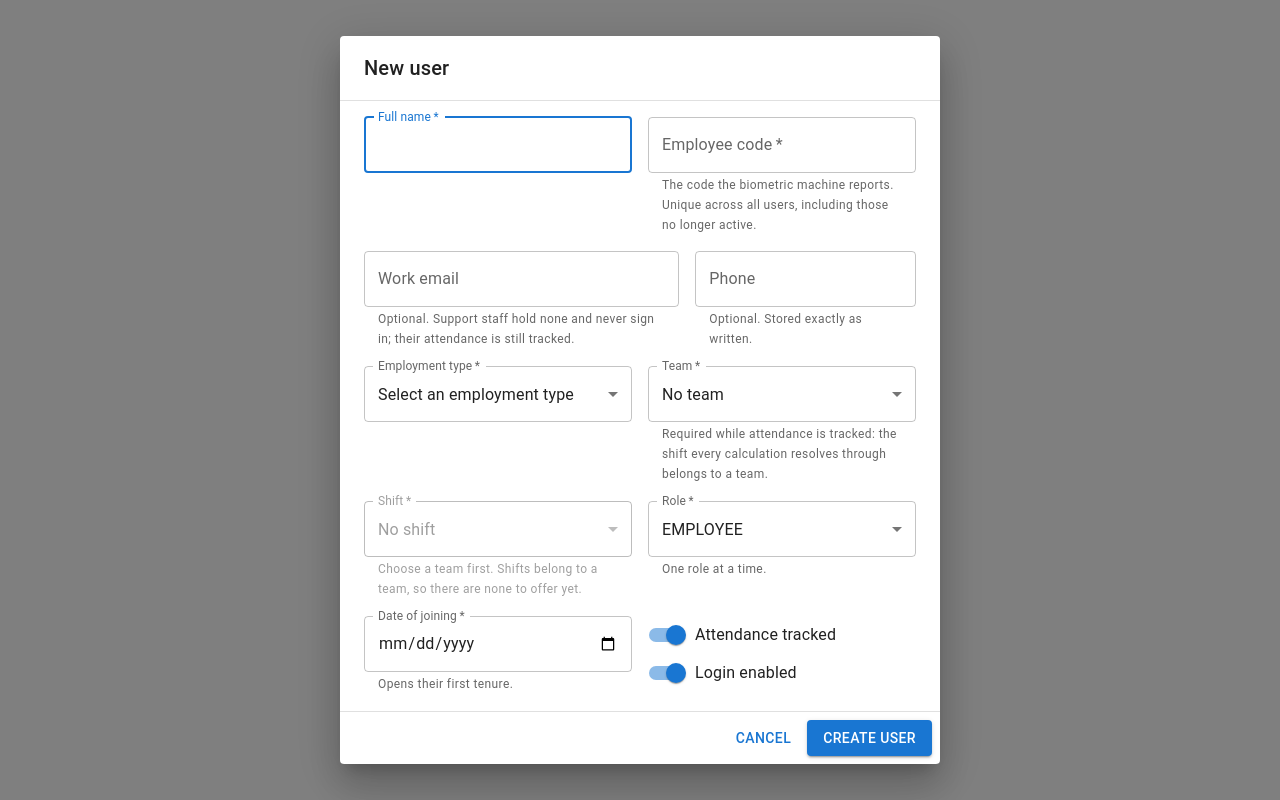
UserFormDialog › fills the shift list from the chosen team alone
Click the dropdown labelled "No team" at (693,394), box [662, 385, 724, 404]
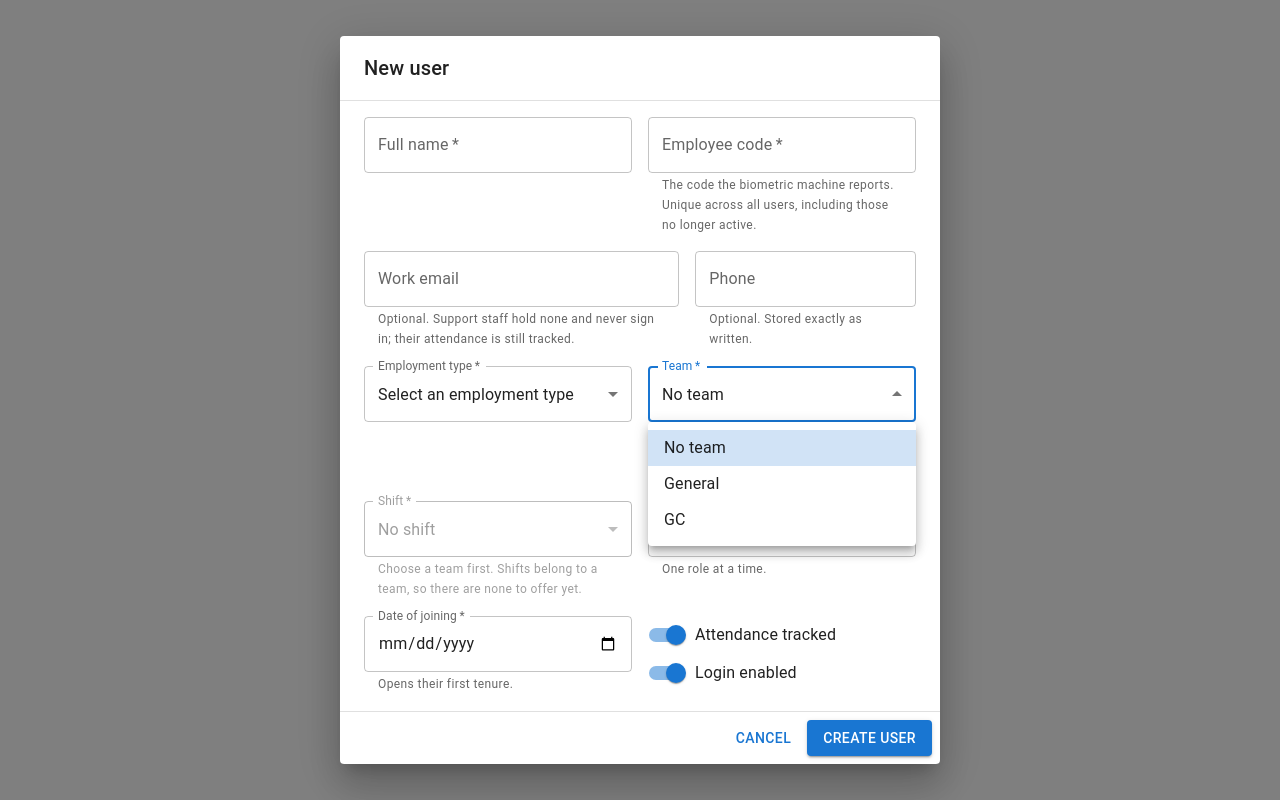
Click the option "GC" at (675,520), box [664, 510, 686, 529]
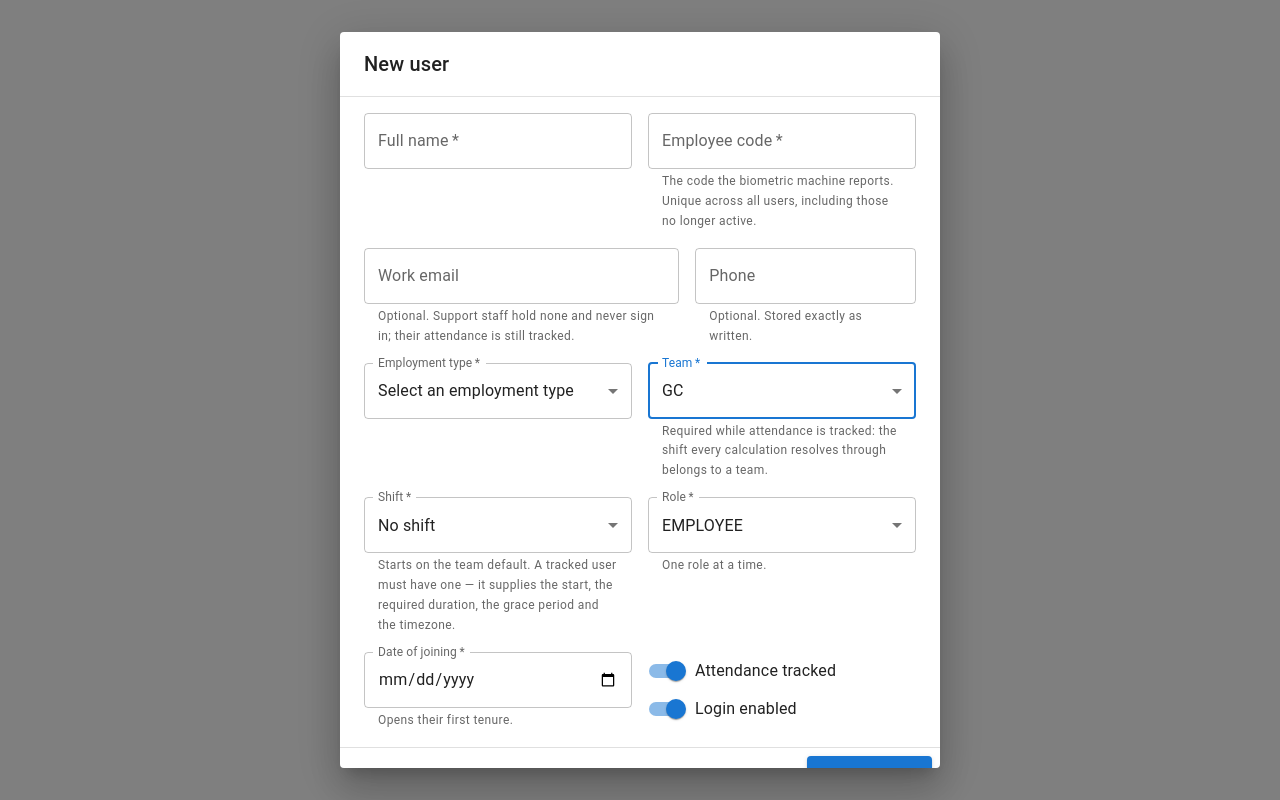
Click the dropdown labelled "No shift" at (407,525), box [378, 516, 436, 535]
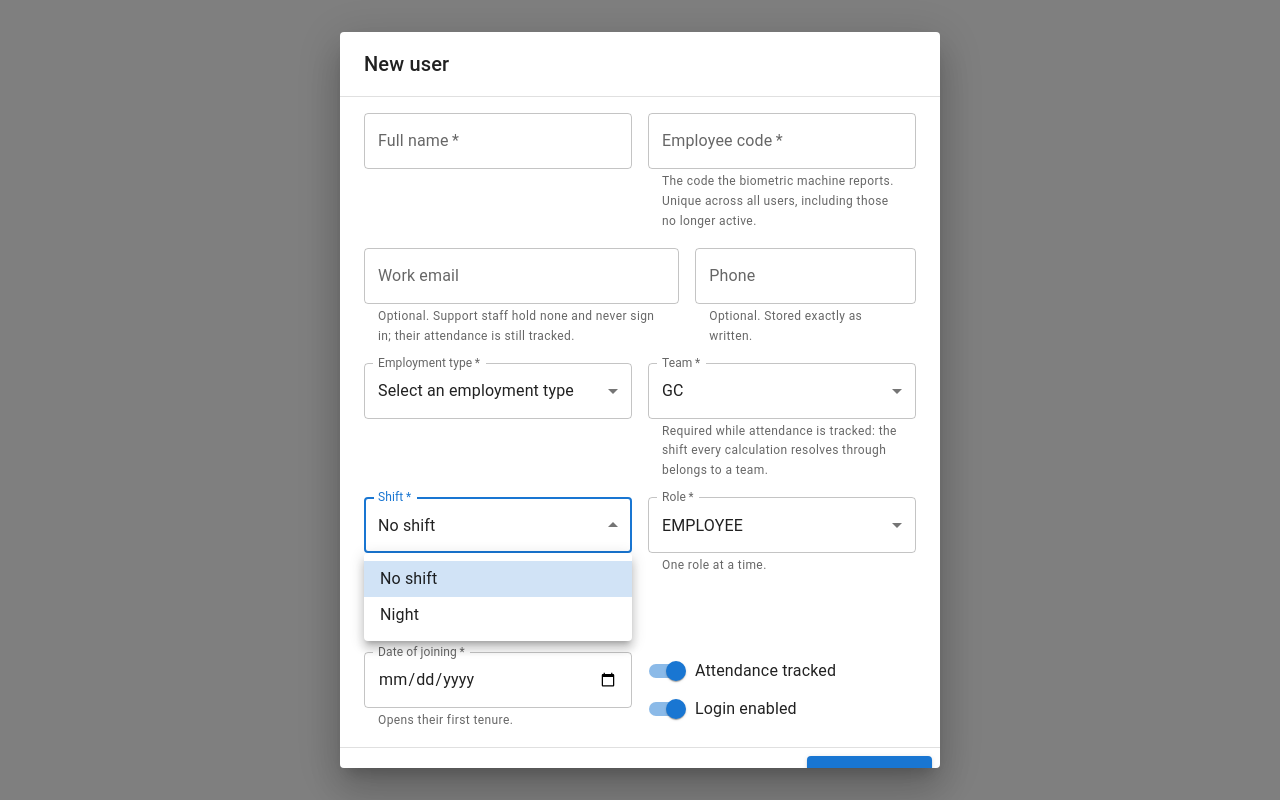
expect the option "Night" is shown: met, box [380, 605, 419, 624]
